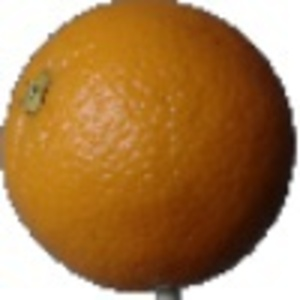laranja: (4, 3, 296, 296)
